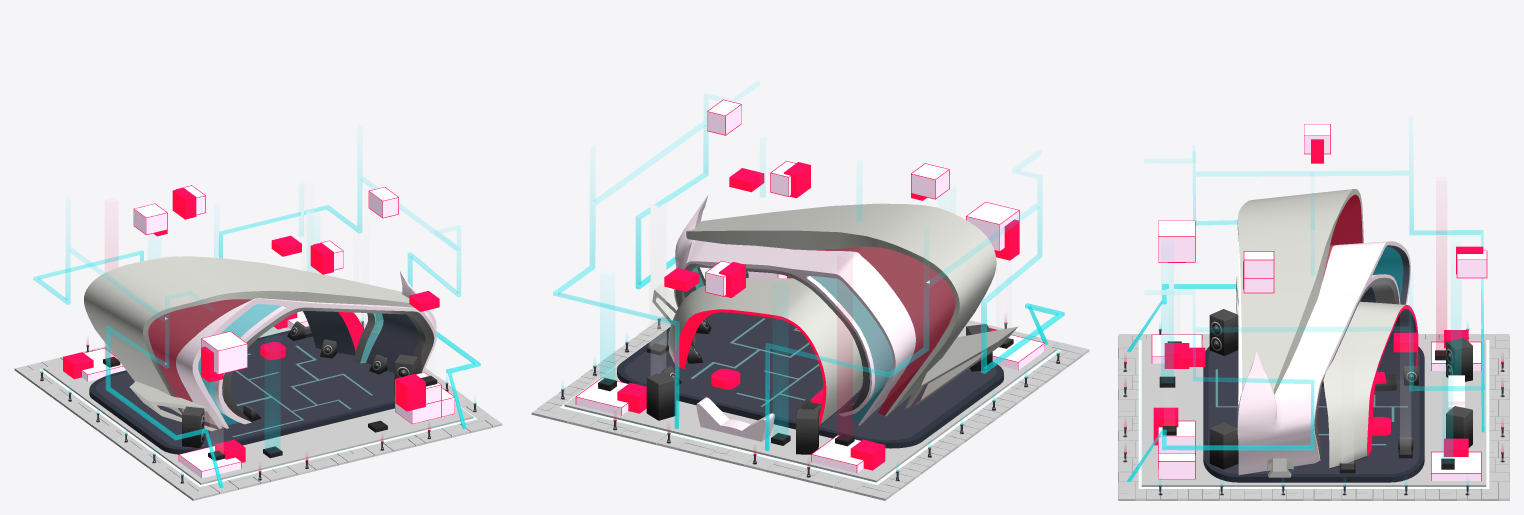
File: stage.glb
The picture shows the model from 3 angles, left to right: view 1: azimuth 30°, elevation 25°; view 2: azimuth 150°, elevation 25°; view 3: azimuth 270°, elevation 25°; orthographic projection. The views are drawn at different scales.
Visible parts, largest first — view 1: Cubo.083, Plano.002, Plano.003, suelo.001, Cubo.088, Cubo.060, Cubo.023, Cubo.020, Plano.012, Plano.001, Plano.005, Cubo.095 (+8 smaller); view 2: Cubo.083, Plano.003, Plano.002, Plano.001, suelo.001, Cubo.023, Cubo.060, Cubo.088, Cubo.095, Plano.013, Cubo.020, Plano.010 (+7 smaller); view 3: Plano.003, Plano.002, suelo.001, Cubo.088, Cubo.083, Plano.001, Cubo.060, Cubo.023, Cubo.095, Cubo.020, Cilindro, Cilindro.001 (+7 smaller).
Part boxes in pixels (x1=…): Cubo.083: x1=89, y1=326, x2=394, y2=454; Plano.002: x1=84, y1=256, x2=414, y2=414; Plano.003: x1=148, y1=255, x2=436, y2=428; suelo.001: x1=14, y1=318, x2=502, y2=500; Cubo.088: x1=43, y1=326, x2=473, y2=484; Cubo.060: x1=82, y1=186, x2=454, y2=478; Cubo.023: x1=33, y1=170, x2=480, y2=488; Cubo.020: x1=63, y1=188, x2=439, y2=462; Plano.012: x1=148, y1=299, x2=251, y2=401; Plano.001: x1=129, y1=311, x2=363, y2=431; Plano.005: x1=222, y1=307, x2=434, y2=422; Cubo.095: x1=105, y1=215, x2=367, y2=453; Cubo.083: x1=617, y1=312, x2=1003, y2=448; Plano.003: x1=674, y1=195, x2=955, y2=425; Plano.002: x1=686, y1=203, x2=996, y2=416; Plano.001: x1=652, y1=278, x2=1017, y2=425; suelo.001: x1=531, y1=316, x2=1089, y2=500; Cubo.023: x1=553, y1=98, x2=1064, y2=451; Cubo.060: x1=576, y1=100, x2=1044, y2=473; Cubo.088: x1=564, y1=326, x2=1056, y2=482; Cubo.095: x1=600, y1=226, x2=1011, y2=439; Plano.013: x1=814, y1=246, x2=955, y2=415; Cubo.020: x1=617, y1=162, x2=1019, y2=470; Plano.010: x1=810, y1=276, x2=892, y2=421; Plano.003: x1=1237, y1=241, x2=1410, y2=474; Plano.002: x1=1237, y1=189, x2=1363, y2=394; suelo.001: x1=1118, y1=334, x2=1509, y2=500; Cubo.088: x1=1141, y1=339, x2=1486, y2=486; Cubo.083: x1=1203, y1=346, x2=1424, y2=482; Plano.001: x1=1236, y1=276, x2=1417, y2=477; Cubo.060: x1=1152, y1=124, x2=1486, y2=480; Cubo.023: x1=1127, y1=151, x2=1484, y2=481; Cubo.095: x1=1161, y1=265, x2=1461, y2=463; Cubo.020: x1=1153, y1=139, x2=1483, y2=456; Cilindro: x1=1209, y1=309, x2=1238, y2=469; Cilindro.001: x1=1446, y1=338, x2=1472, y2=447.
Size of what is drawn, in the model's own units: 32 by 32.9 by 32.
22 materials, 4 textured.
